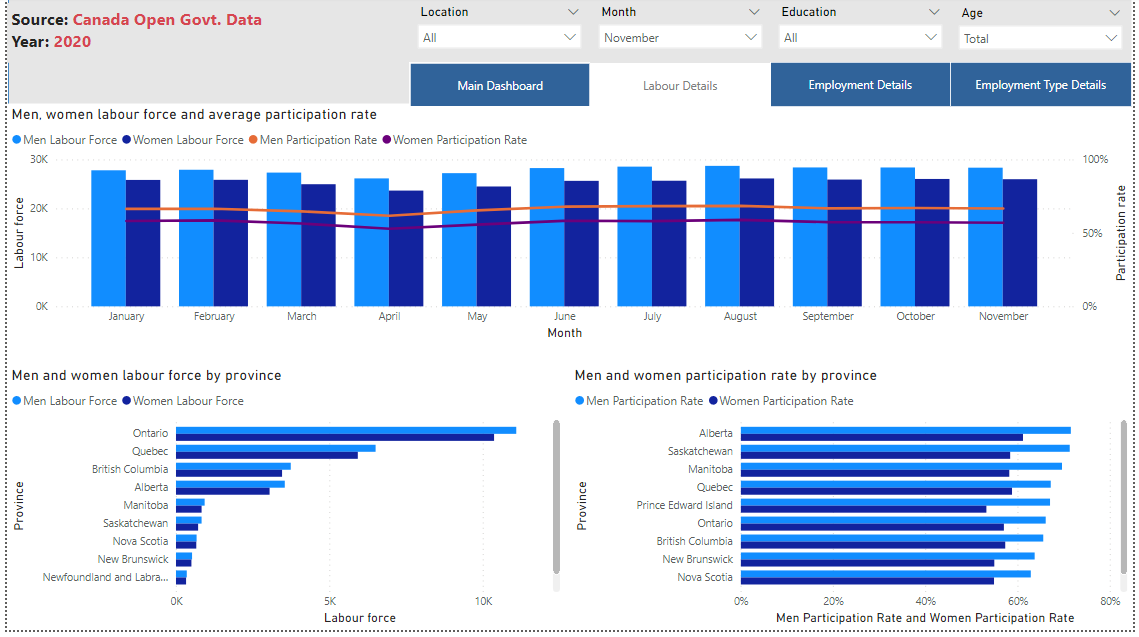

The page's visual inventory and layout, read from the dashboard file:
{"tool":"powerbi","page":{"name":"Labour Force Details","canvas":[1280,720],"ordinal":1},"visuals":[{"type":"lineClusteredColumnComboChart","title":"Men, women labour force and average participation rate","fields":{"Category":["data-2020.Date.Variation.Date Hierarchy.Month"],"Y2":["data-2020.Men participation rate","data-2020.Women participation rate"],"Y":["LabourForceByEducation.Men Labour Force","LabourForceByEducation.Women Labour Force"]},"box":[0,123.4,1278.7,272.4],"z":0},{"type":"shape","box":[0,1.3,1280,120.8],"z":1000},{"type":"clusteredBarChart","title":"Men and women labour force by province","fields":{"Category":["data-2020.Location"],"Y":["LabourForceByEducation.Men Labour Force","LabourForceByEducation.Women Labour Force"]},"box":[0,420.2,633.6,299.4],"z":2000},{"type":"clusteredBarChart","title":"Men and women participation rate by province","fields":{"Category":["data-2020.Location"],"Y":["LabourForceByEducation.Men Participation Rate","LabourForceByEducation.Women Participation Rate"]},"box":[640,420.2,638.7,299.4],"z":3000},{"type":"slicer","fields":{"Values":["data-2020.Location"]},"box":[457.4,3.7,205.6,68.1],"z":4000},{"type":"slicer","fields":{"Values":["data-2020.Date.Variation.Date Hierarchy.Month"]},"box":[663.1,3.7,205.6,68.1],"z":5000},{"type":"slicer","fields":{"Values":["data-2020.Education"]},"box":[867.4,3.7,205.6,68.1],"z":6000},{"type":"slicer","fields":{"Values":["data-2020.Age"]},"box":[1073,4.1,206,68],"z":7000},{"type":"actionButton","box":[457.5,73.6,205.6,51.4],"z":8000},{"type":"actionButton","box":[867.5,73.6,205.6,51.4],"z":9000},{"type":"actionButton","box":[663.1,74.5,205.6,51.4],"z":10000},{"type":"actionButton","box":[1073.1,73.6,206.9,51.4],"z":11000},{"type":"textbox","box":[0,6.4,317.4,68.1],"z":13000}]}

Visuals, with their boxes in screenshot pixels (x1, y1, x2, y2), scaled from the page's 1280x720 canvas onto the 1139x637 screenshot:
"Men, women labour force and average participation rate" lineClusteredColumnComboChart: 0,109,1138,350
shape: 0,1,1138,108
"Men and women labour force by province" clusteredBarChart: 0,372,564,636
"Men and women participation rate by province" clusteredBarChart: 570,372,1138,636
slicer - data-2020.Location: 407,3,590,64
slicer - data-2020.Date.Variation.Date Hierarchy.Month: 590,3,773,64
slicer - data-2020.Education: 772,3,955,64
slicer - data-2020.Age: 955,4,1138,64
actionButton: 407,65,590,111
actionButton: 772,65,955,111
actionButton: 590,66,773,111
actionButton: 955,65,1138,111
textbox: 0,6,282,66
